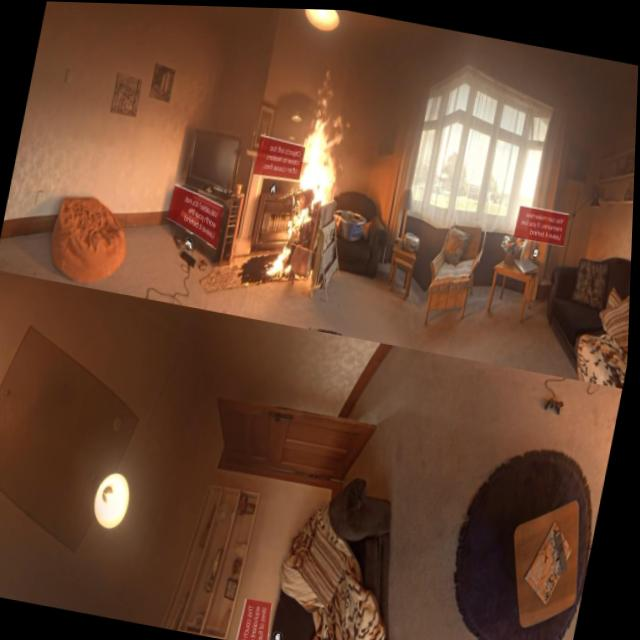fire: (266, 64, 361, 285)
